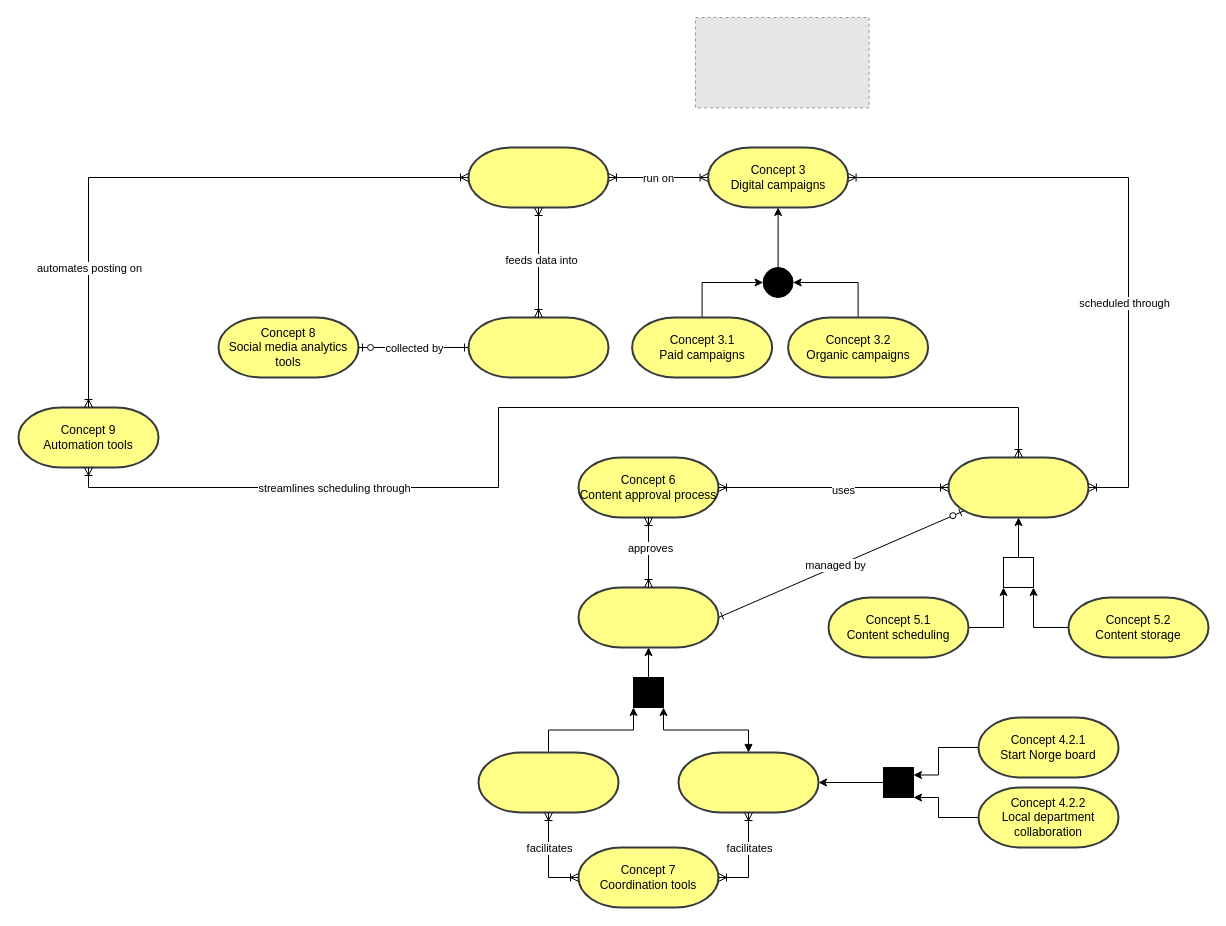
Image size: 1226x926. Some labels were removed from this diagram. Grey dashed boxes stand in for pictures. Each missing label, with the centre of its shape:
Concept 1 Social media platforms: the point at 538,177
Concept 2 Engagement metrics: the point at 538,347
Concept 4 Content creation: the point at 648,617
Concept 4.1 Paid contributions: the point at 548,782
Concept 4.2 Volunteer contributions: the point at 748,782
Concept 5 Content management system: the point at 1018,487
